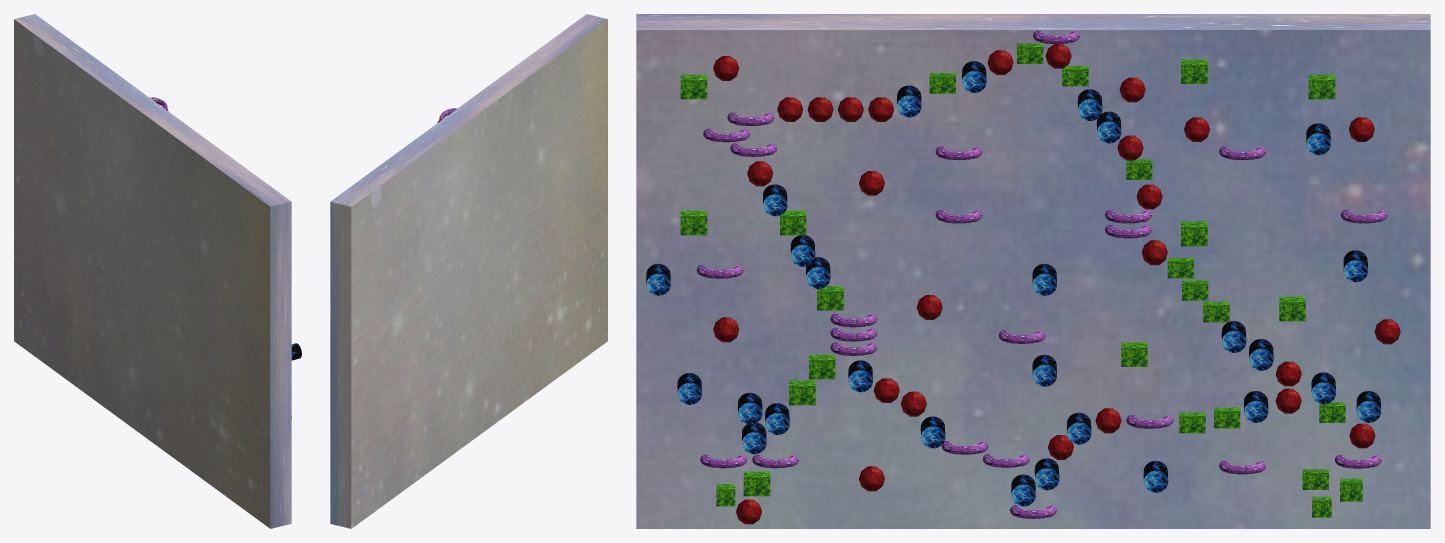
File: climbingWall.fbx
3 views of the same model, side by side, from view 1: azimuth 30°, elevation 25°; view 2: azimuth 150°, elevation 25°; view 3: azimuth 270°, elevation 25° (orthographic). The views are drawn at different scales.
Visible parts, largest first — view 1: Cube; view 2: Cube; view 3: Cube.
Boxes of the visible parts, x1,y1,x2,y2 form: Cube: [14, 14, 291, 528]; Cube: [330, 14, 607, 528]; Cube: [636, 14, 1430, 528].
Size of the model in its own units: 195 by 1724 by 2488.
